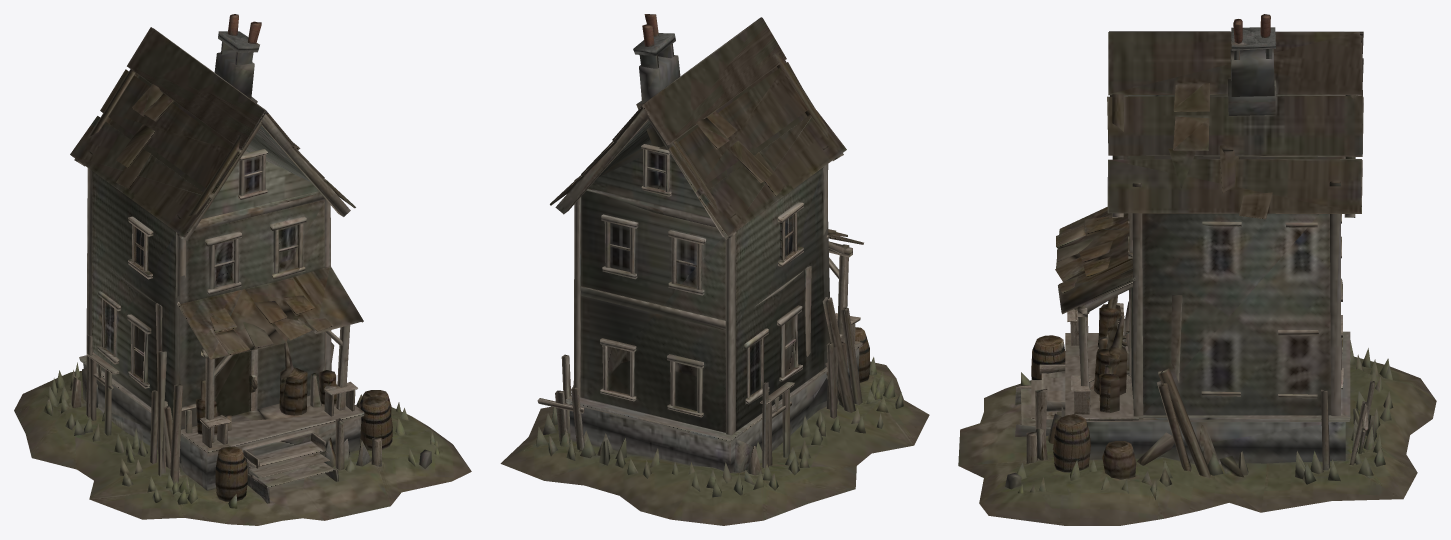
Rendered from pickman_house_2.glb.
The picture shows the model from 3 angles, left to right: view 1: azimuth 30°, elevation 25°; view 2: azimuth 150°, elevation 25°; view 3: azimuth 270°, elevation 25°; orthographic projection. The views are drawn at different scales.
Visible parts, largest first — view 1: PickmanHouse2Mesh; view 2: PickmanHouse2Mesh; view 3: PickmanHouse2Mesh.
Part boxes in pixels (<box>): PickmanHouse2Mesh: <box>14,14,471,525</box>; PickmanHouse2Mesh: <box>500,14,929,525</box>; PickmanHouse2Mesh: <box>958,14,1436,525</box>.
Bounding box in the file's own units: 1.75 × 2 × 1.97.
1 material, 1 textured.
